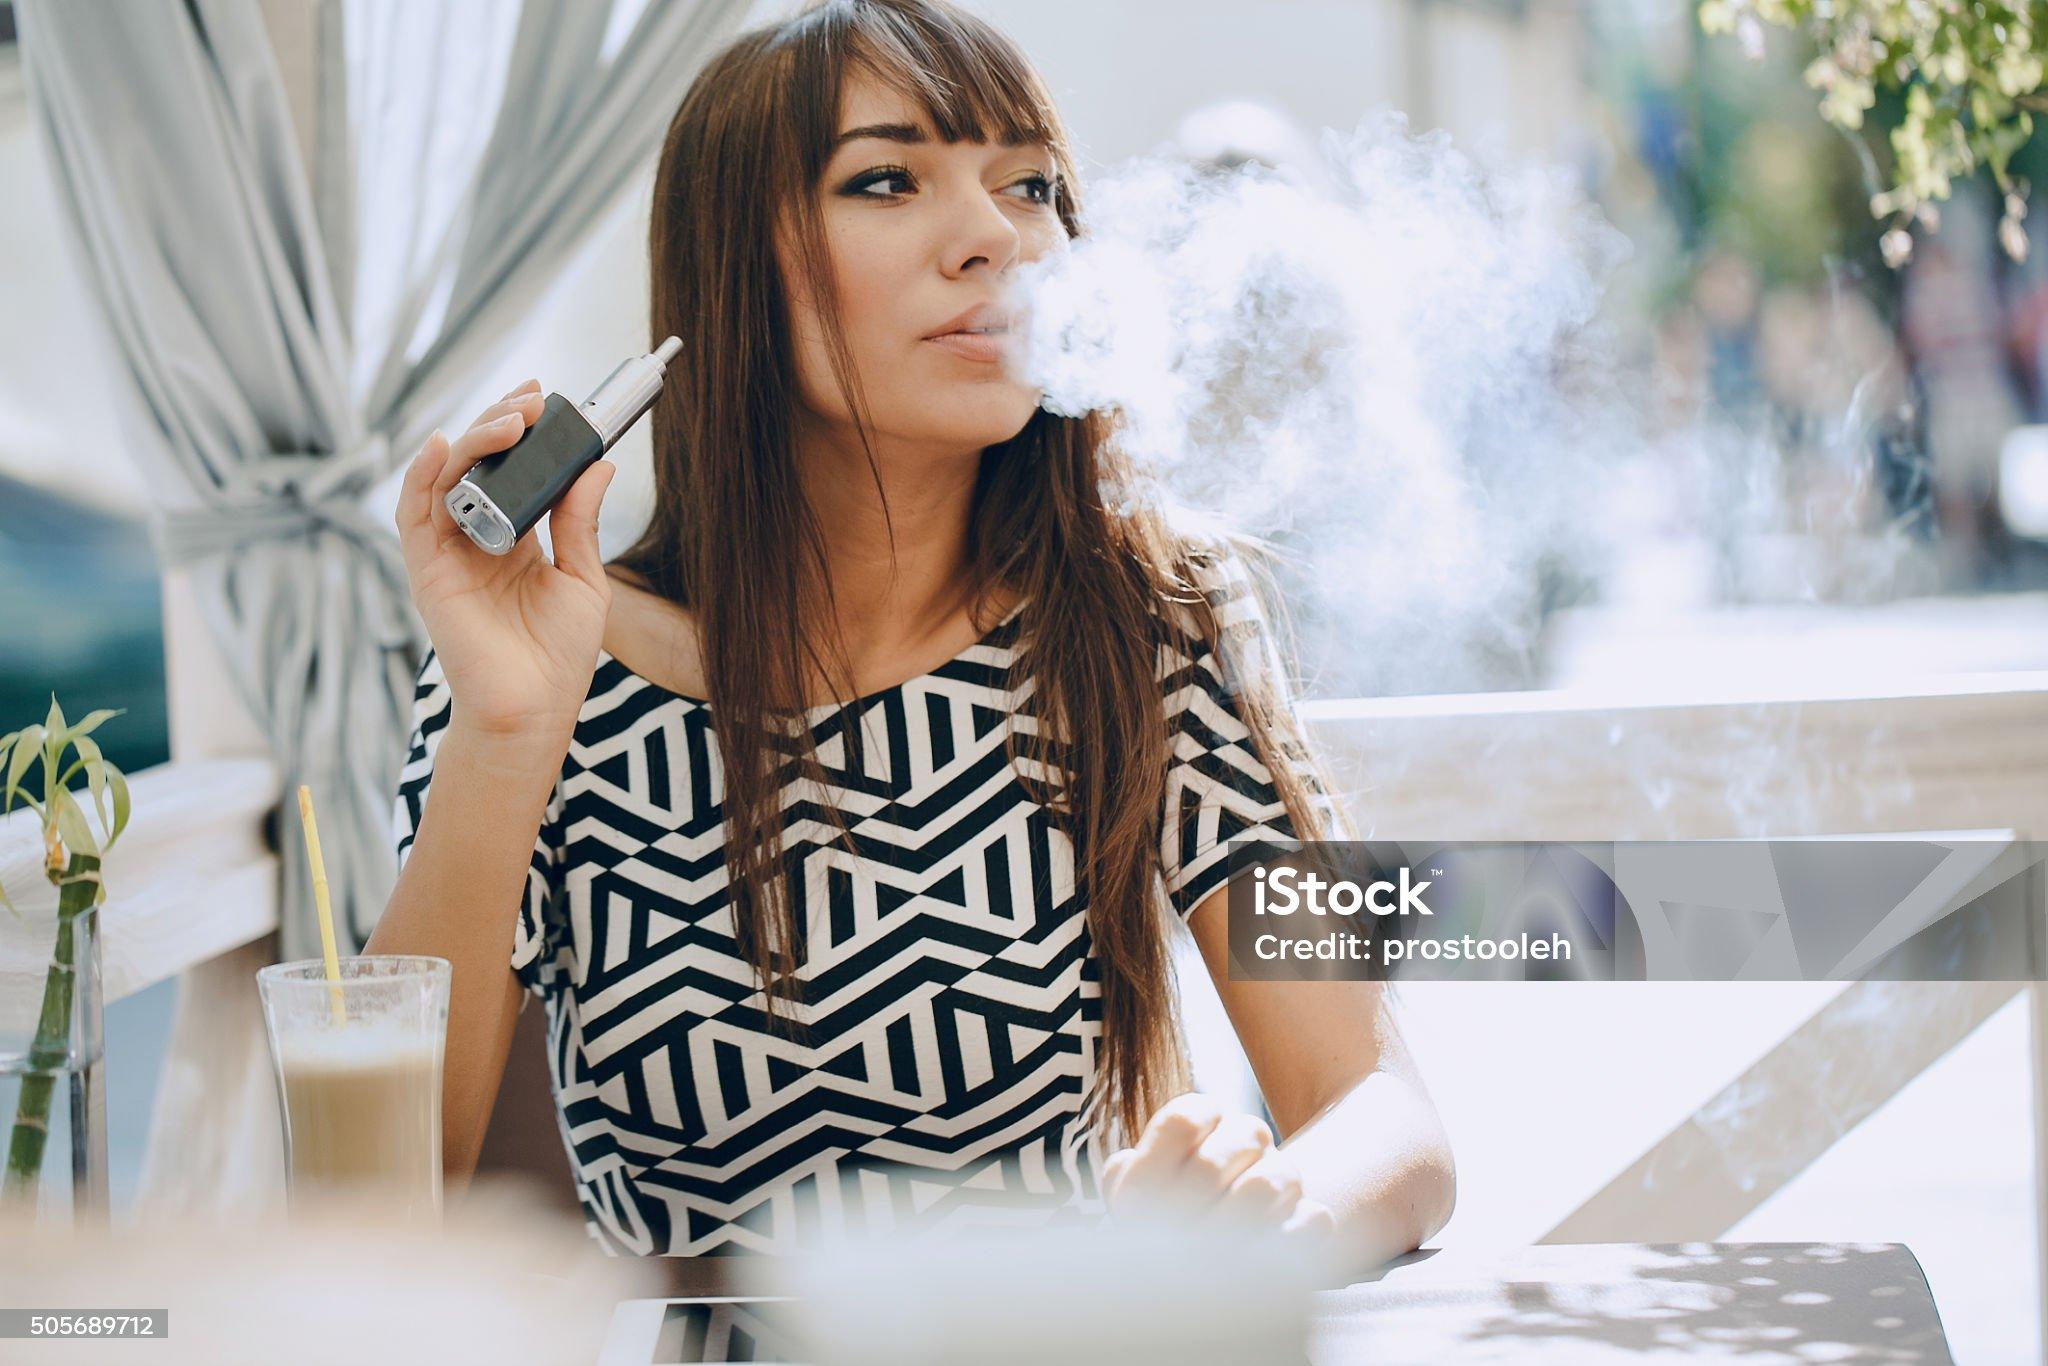Vape: (445, 340, 683, 553)
